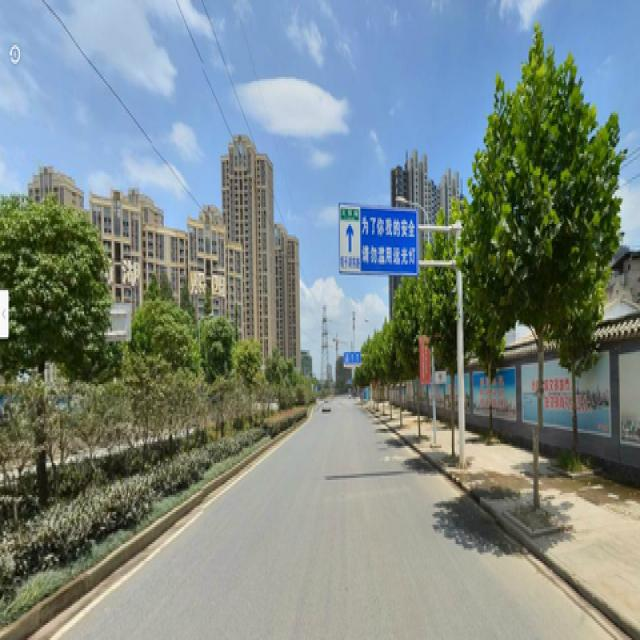meta: (473, 62, 608, 495)
